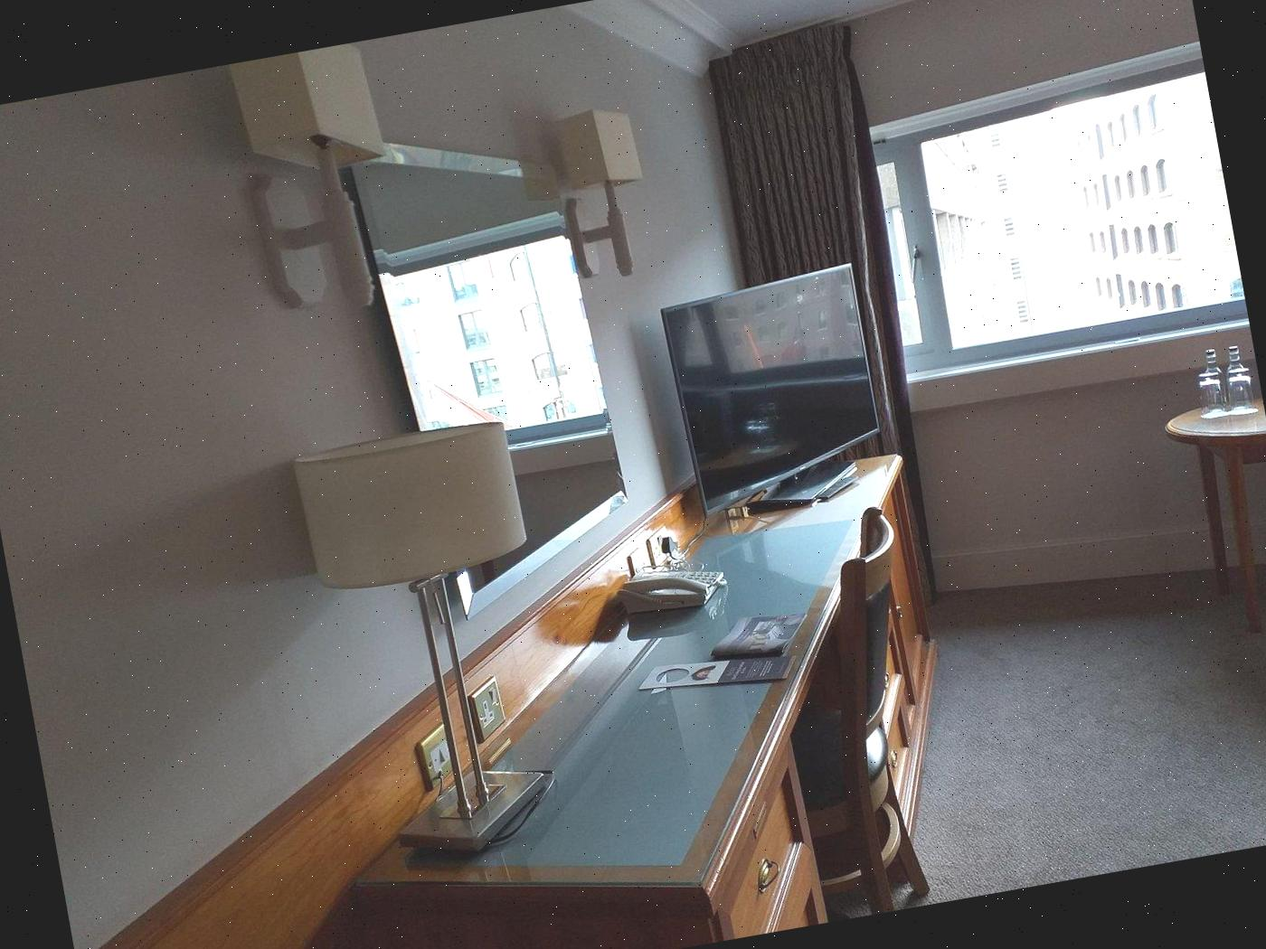chair: (761, 519, 928, 922)
clean_floor: (880, 577, 1266, 912)
lamp: (286, 409, 601, 867)
organized table: (337, 458, 940, 936), (1162, 343, 1266, 614)
